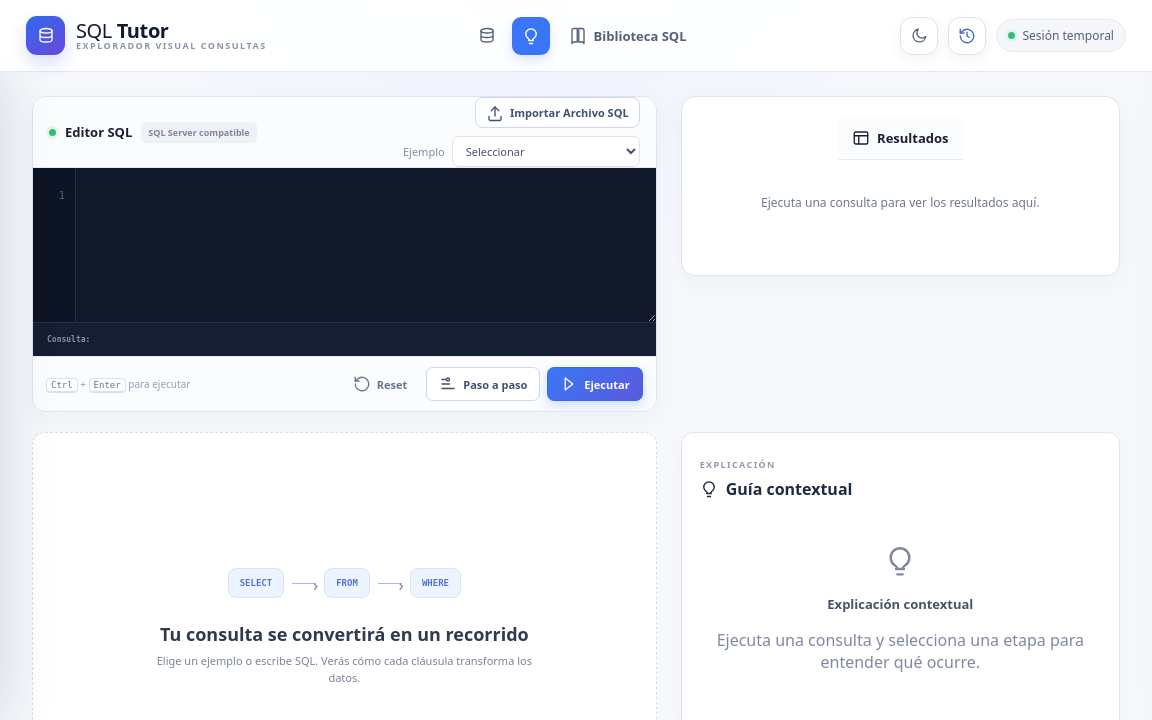
App SQL flows › shows an error for an invalid query
The image size is (1152, 720).
Type "SELECT first_name FROM Customers" into the text box named "consulta sql" at (366, 245), box [76,168,656,322]
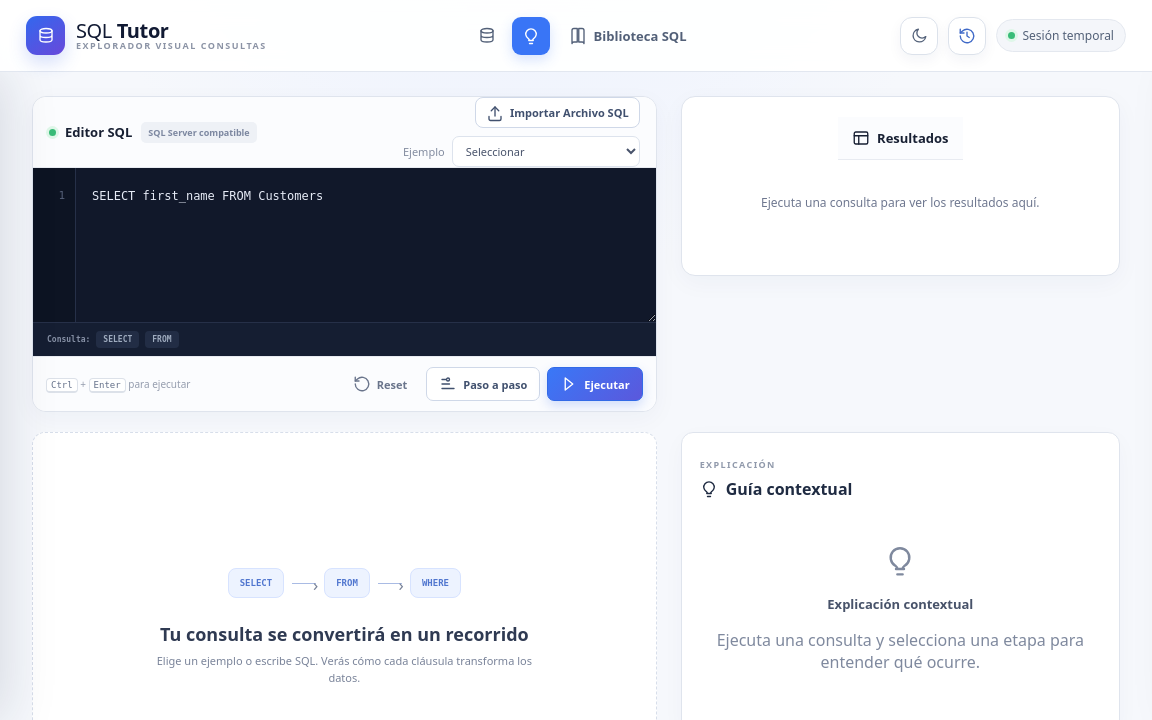
Click the button "Ejecutar" at (595, 384), box [547,367,643,401]
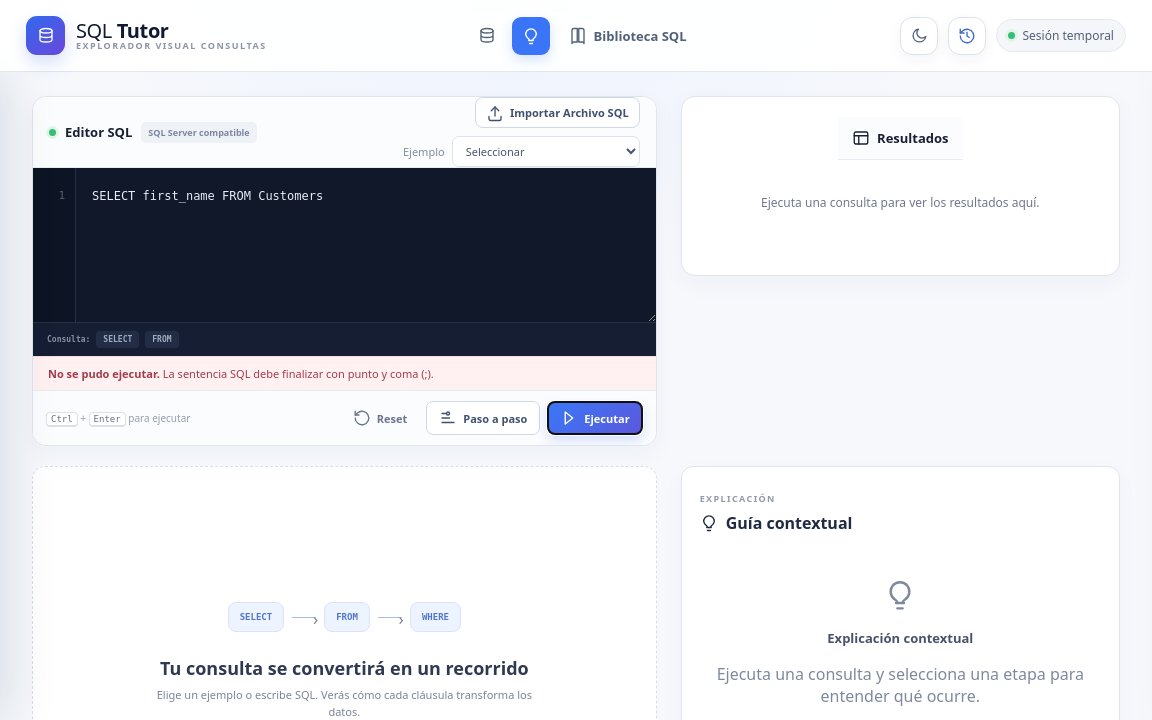
Result: the text "La sentencia SQL debe finalizar con punto y coma" is shown at [163,366,434,381]
